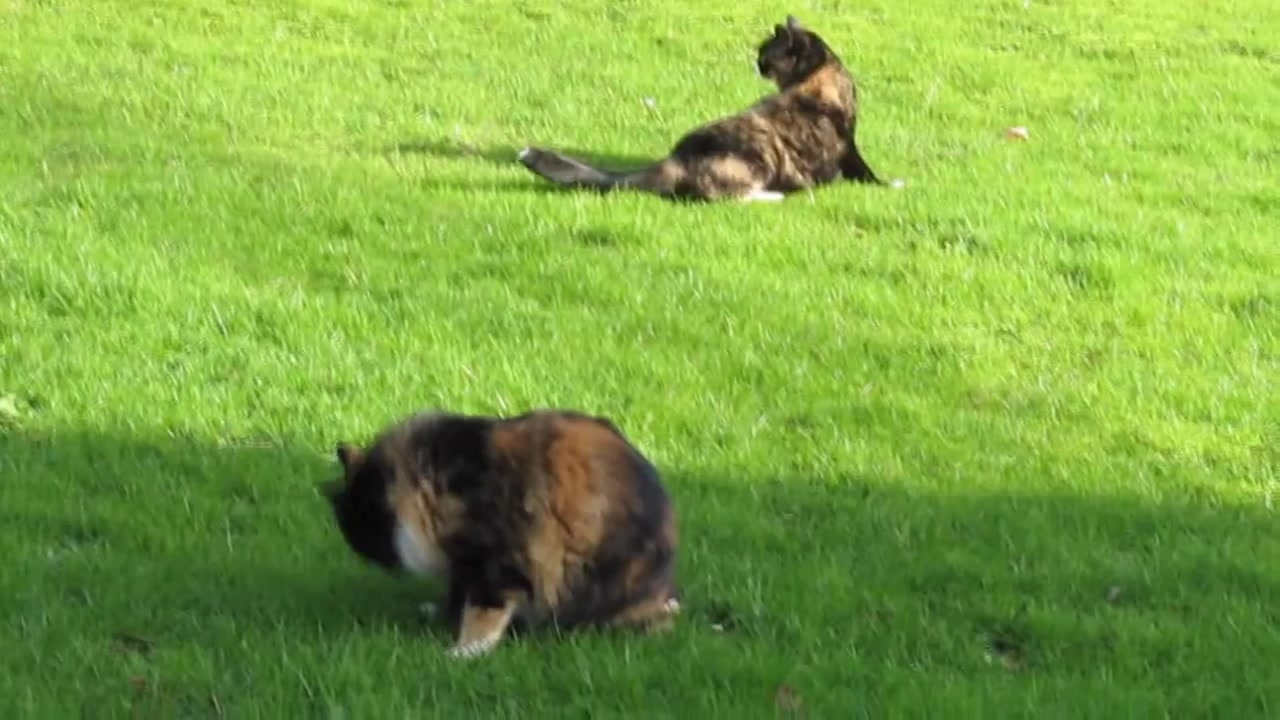cat: (320, 402, 683, 663)
